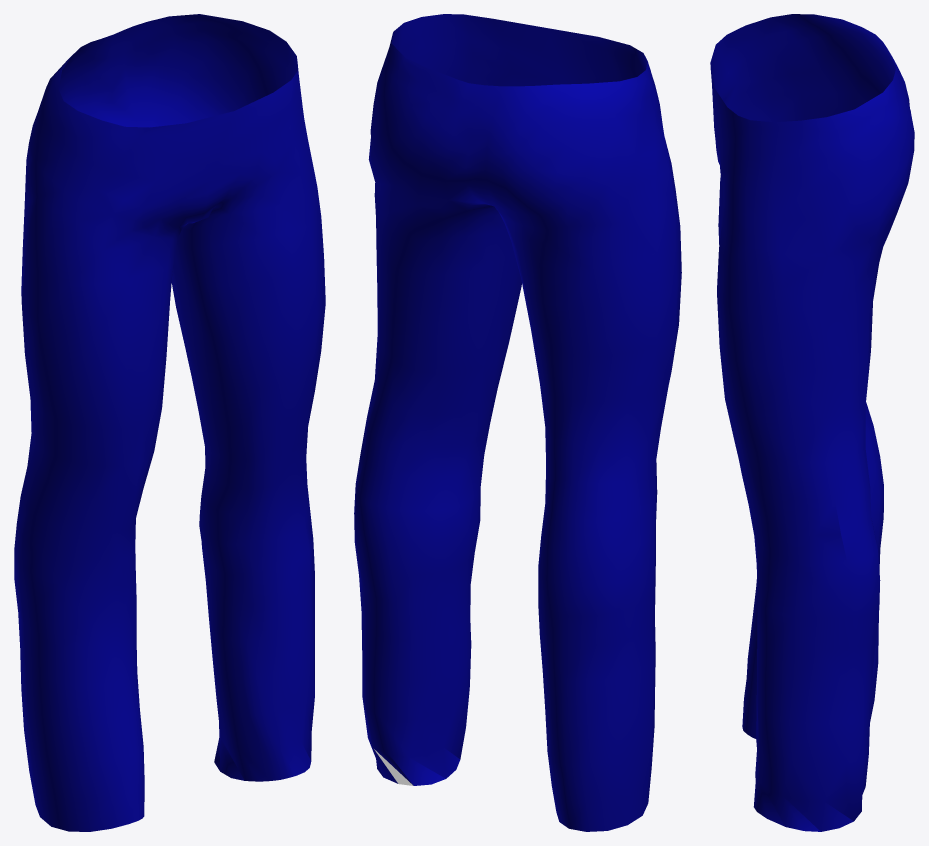
The model's file is pants.dae.
3 views of the same model, side by side, from view 1: azimuth 30°, elevation 25°; view 2: azimuth 150°, elevation 25°; view 3: azimuth 270°, elevation 25° (orthographic). The views are drawn at different scales.
Parts seen in each view (by area): view 1: group_5_006; view 2: group_5_006; view 3: group_5_006.
Boxes of the visible parts, x1,y1,x2,y2 form: group_5_006: (14, 14, 325, 831); group_5_006: (354, 14, 681, 831); group_5_006: (710, 14, 914, 831).
Size of the model in its own units: 0.3889 by 0.247 by 0.9534.
